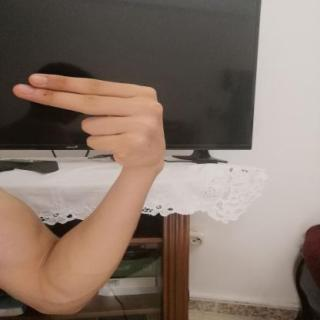AYN: (4, 64, 180, 178)
